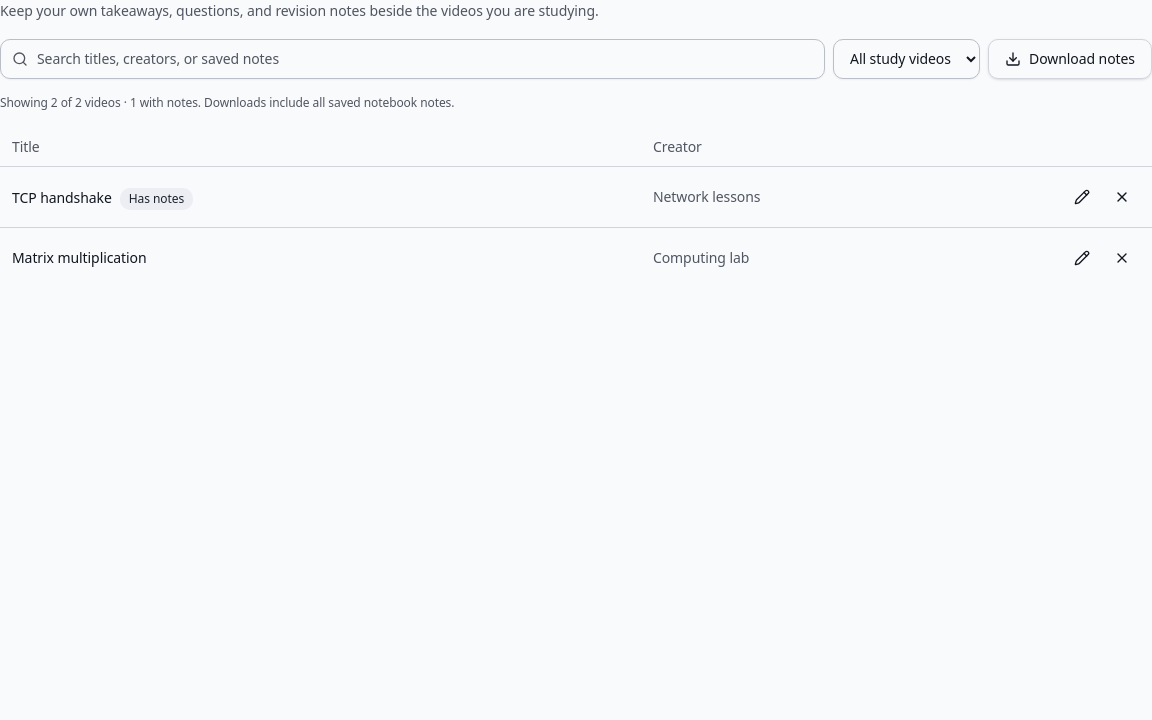
StudyNotebook › clears the saved note while keeping the video in the notebook
The width and height of the screenshot is (1152, 720).
Click the button named "Edit note for TCP handshake" at (1082, 197), box [1064,179,1100,215]
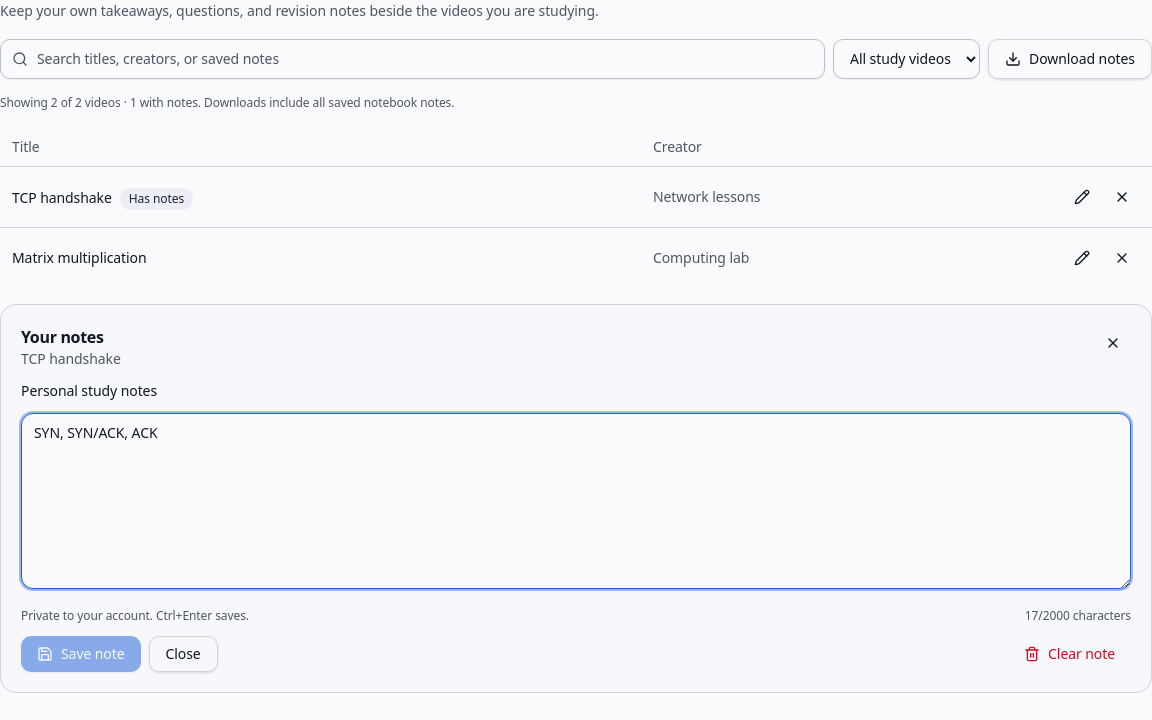
Click the button "Clear note" at (1070, 654), box [1008,636,1131,672]
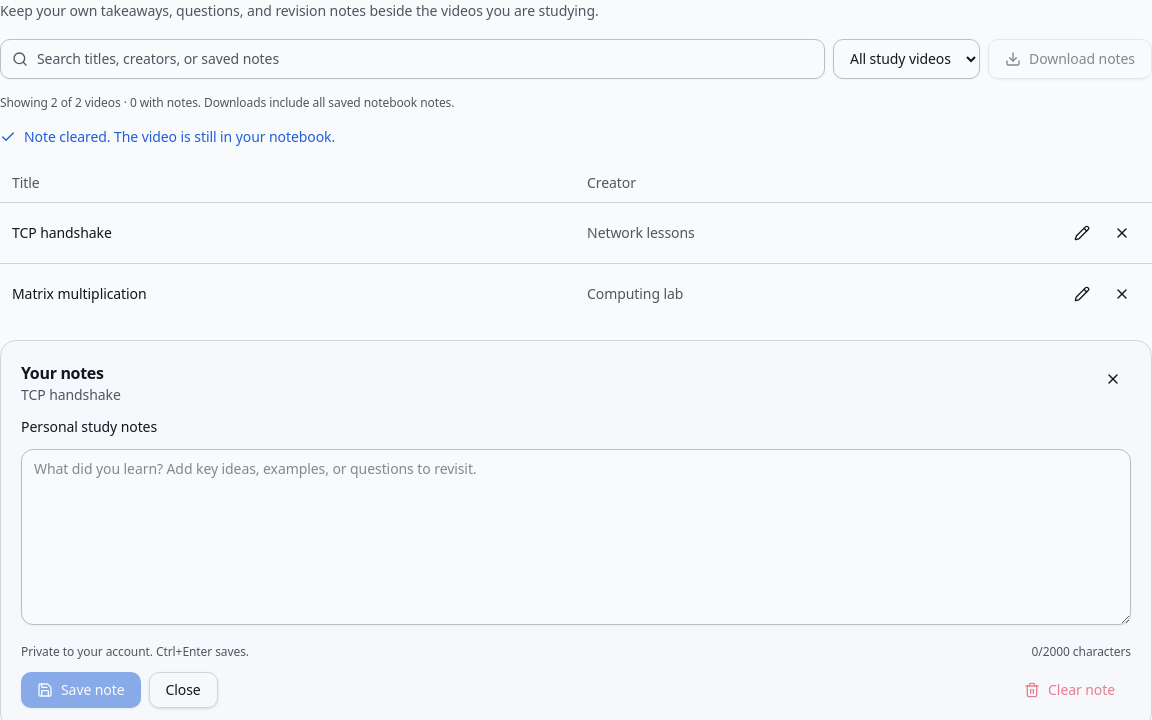
Expected: the button "TCP handshake" is shown, [12,223,112,243]
Expected: the text "Note cleared. The video is still in your notebook." is shown, [0,127,335,146]
Expected: the text box labelled "Personal study notes" is empty, [21,449,1131,625]
